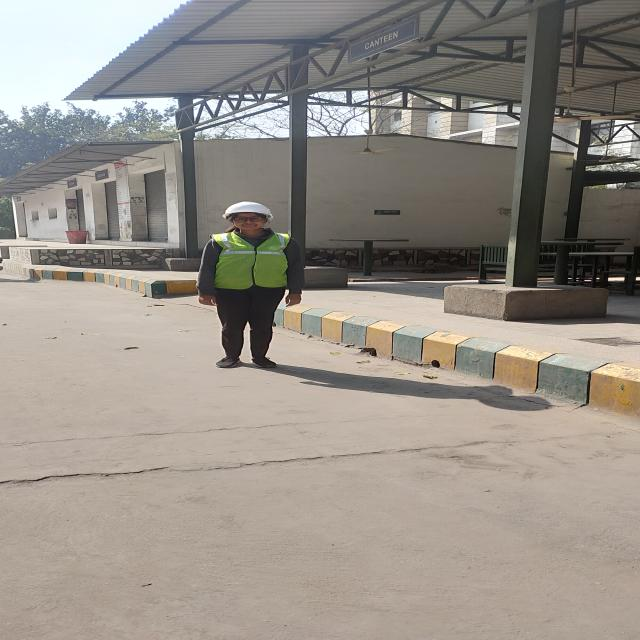safe: (196, 202, 306, 368)
